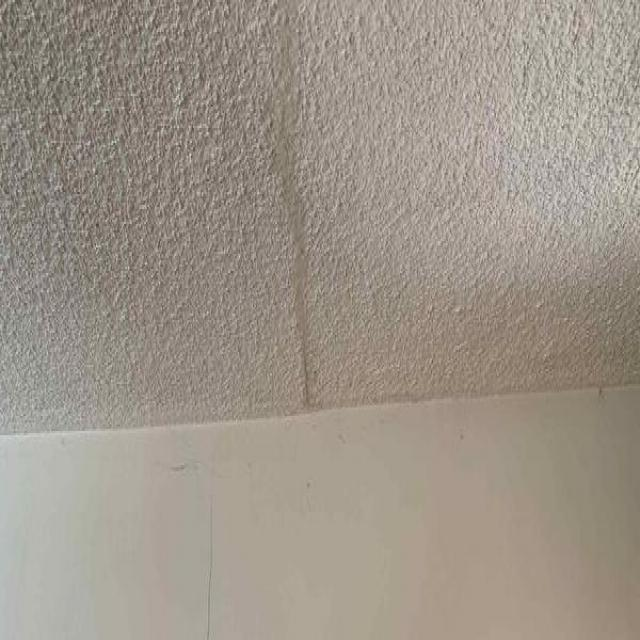Crack: (203, 446, 218, 640)
